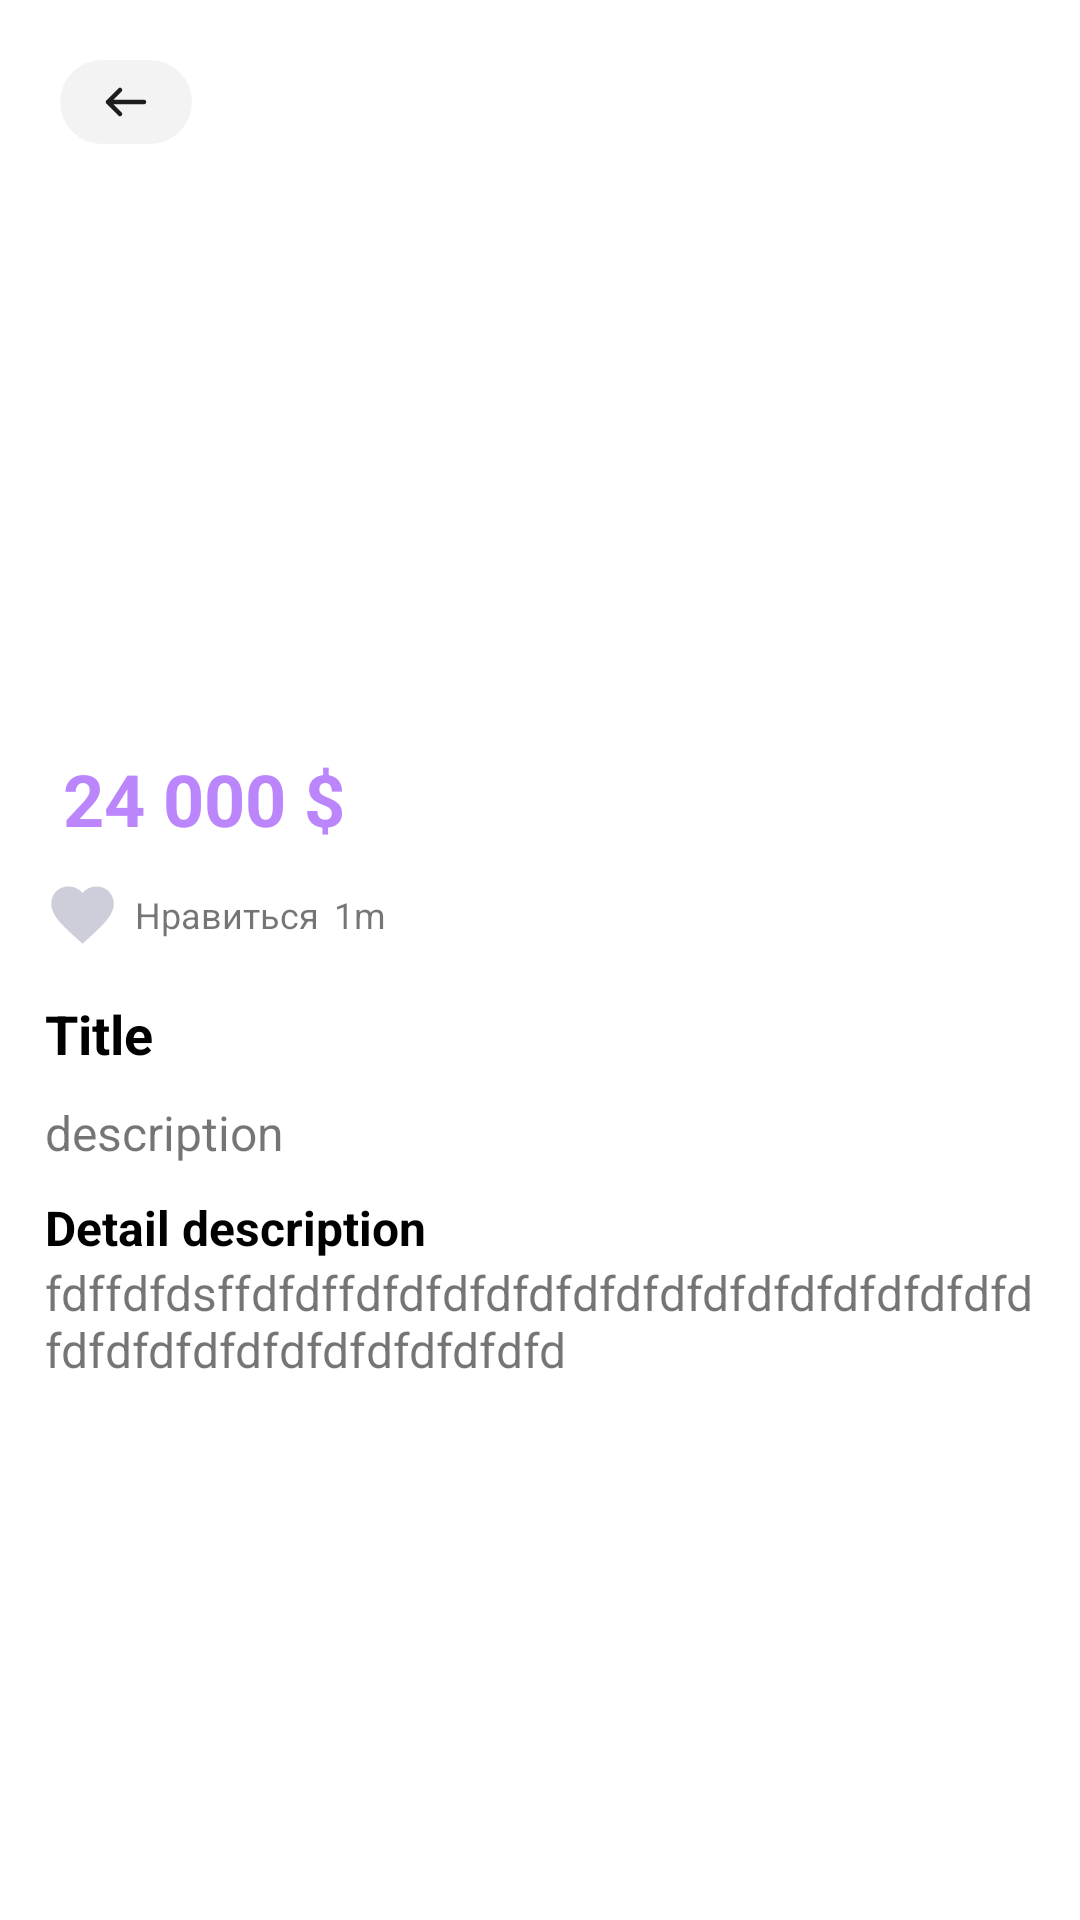

Where icons sit on this 1080x1920 app screen, as (x1, y1, x2, y2):
back: (60, 60, 192, 144)
like: (51, 887, 114, 944)
